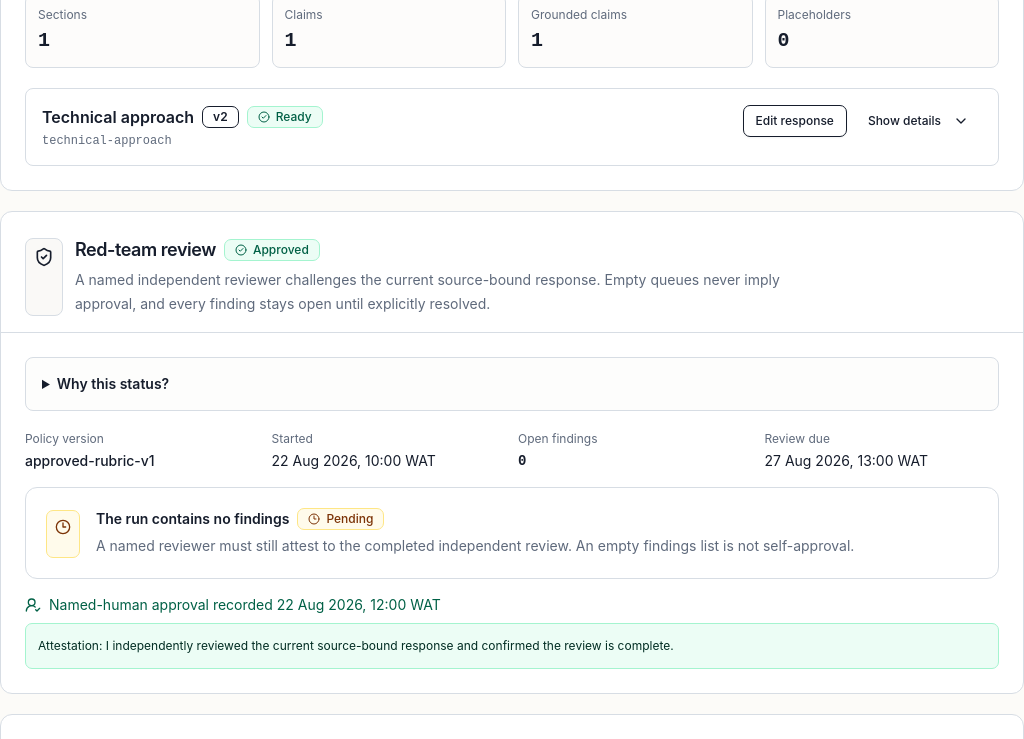
Scenario: DeliveryStudioTab › explains every stage status from the exposed snapshot data
(page scrolled)
What coordinates should you click on to do the following:
click the heading "Why this status?"
I would click on:
 (113, 384)
Its box is 57,375 -> 169,392.
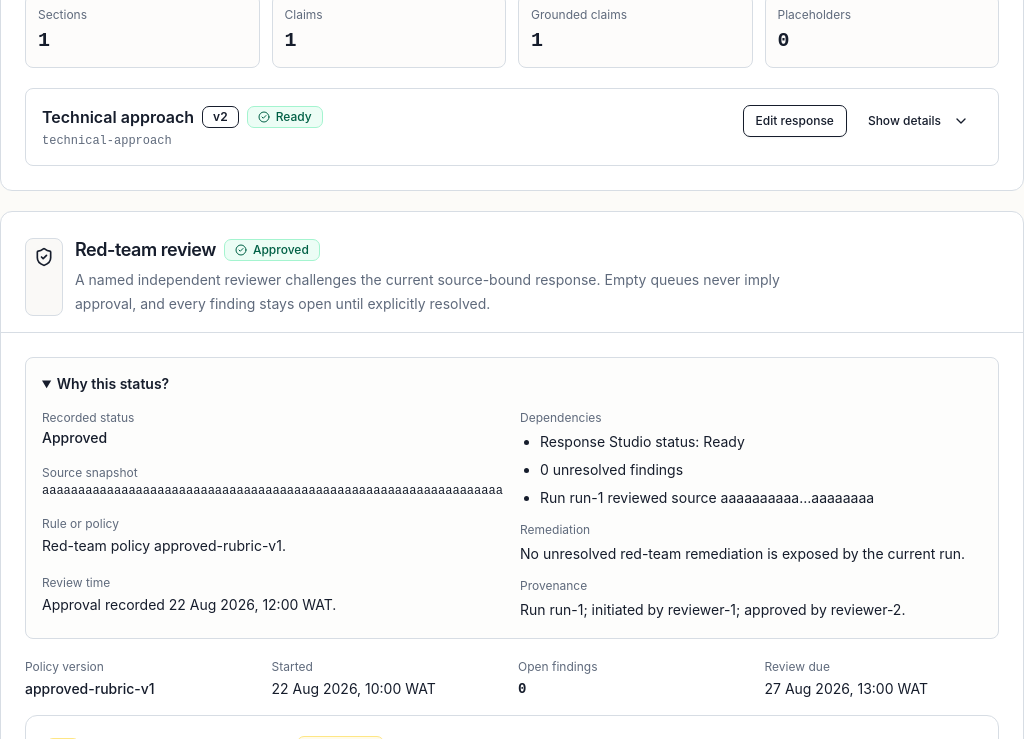
Check: the text "Red-team policy approved-rubric-v1." is shown, box 42,537 -> 286,554
Check: the list item "0 unresolved findings" is shown, box 540,461 -> 683,478
